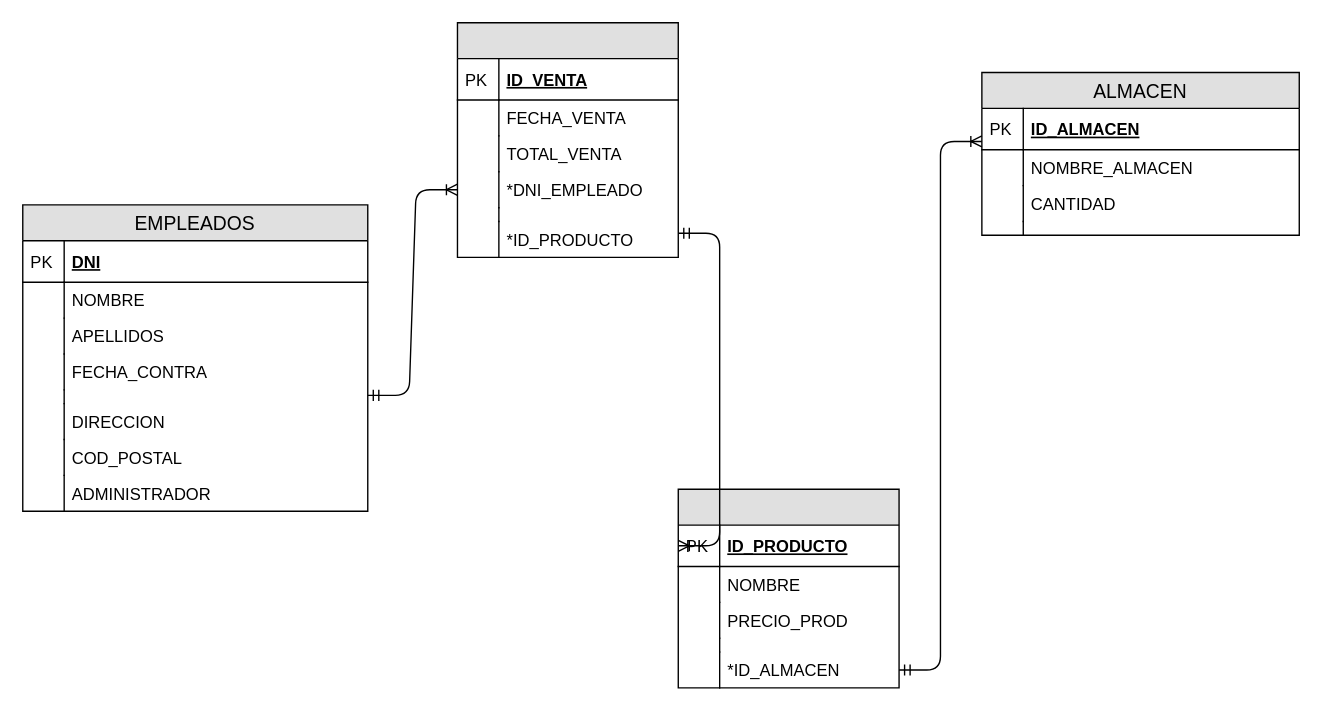
The diagram is 1322 pixels wide and 711 high, and some of its shapes have lost their labels. The box of each missing label's shape, as (x1, y1, x2, y2) in pixels:
PRODUCTOS: (677, 488, 899, 688)
VENTAS: (456, 21, 678, 257)
